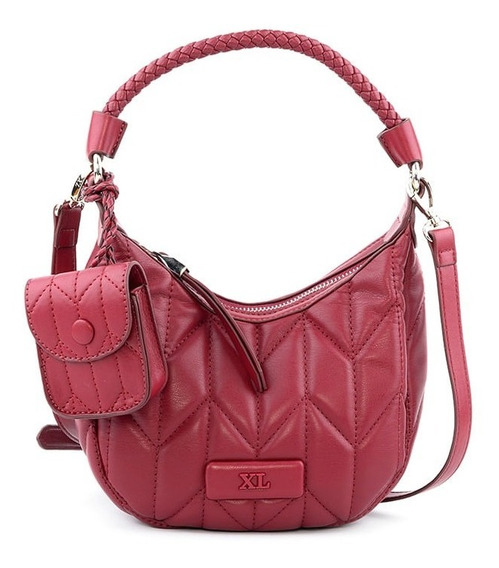cartera: (23, 24, 474, 538)
